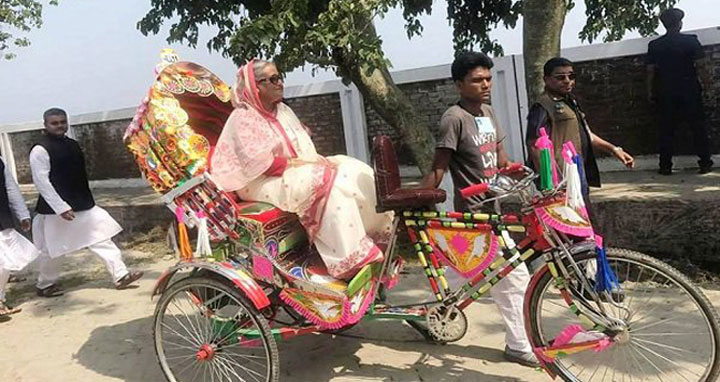Rickshaw: (135, 38, 717, 380)
